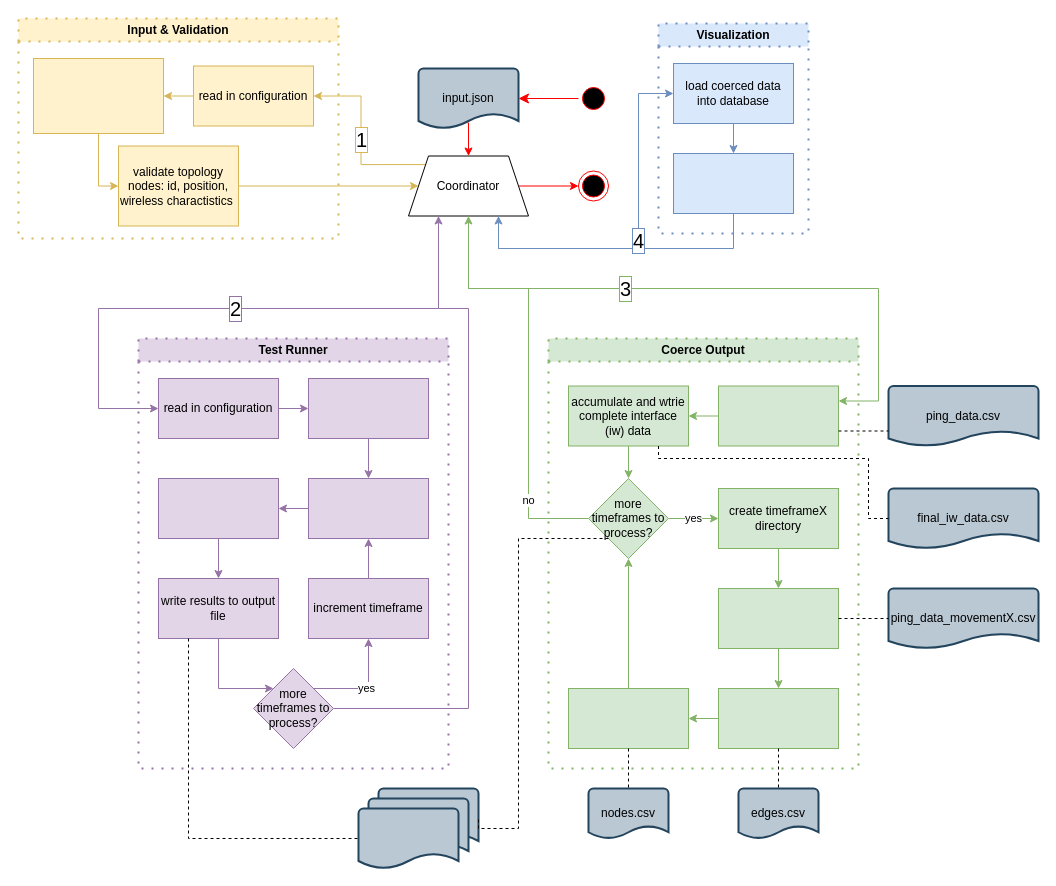
Image size: 1056x886. Some labels were removed from this diagram. The shapes that lost their labels are listed below. From the top down, each one's centre as x and y in pixels, then its label:
At pixel 98 96: "validate each input against enumerations of known good values".
At pixel 733 183: "display results".
At pixel 368 408: "touch timestamped directory".
At pixel 778 415: "accumulate and wtrie complete ping data".
At pixel 218 508: "execute topology-wide connectivity tests".
At pixel 368 508: "move each node to its new position".
At pixel 778 618: "extract node positions for timeframe".
At pixel 628 718: "generate list of nodes".
At pixel 778 718: "derive edges from connectivity".
At pixel 408 838: "timeframeX.txt".
